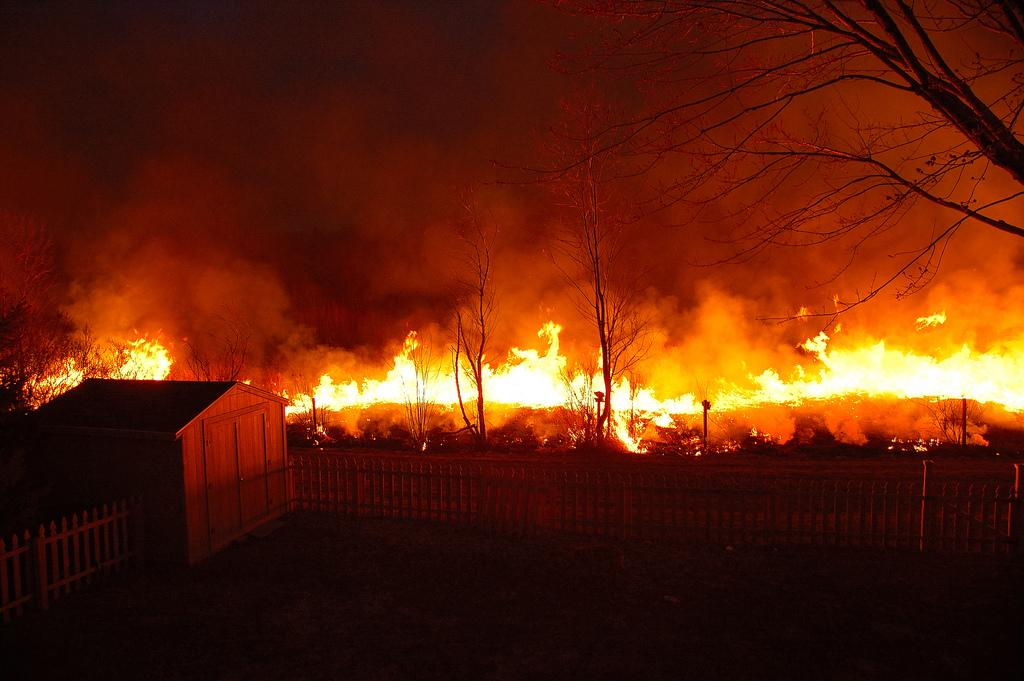fire: (825, 347, 1020, 397), (480, 357, 575, 410), (335, 373, 463, 400), (122, 342, 177, 375), (610, 382, 667, 413)
